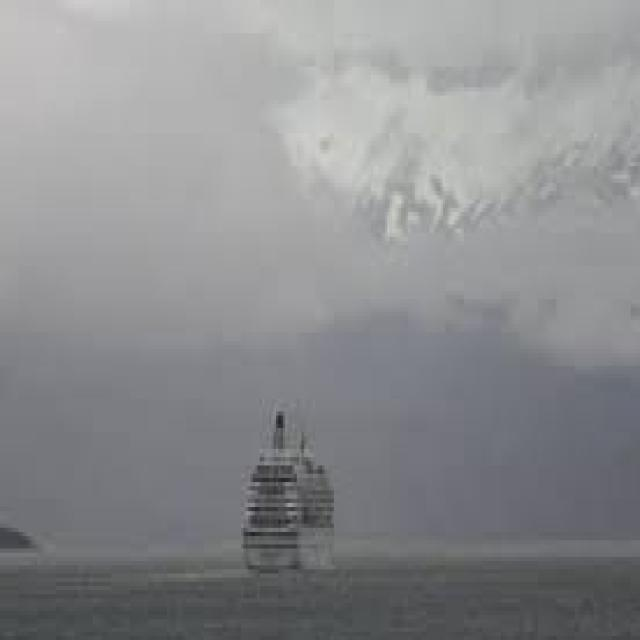passenger ship: (243, 403, 348, 572)
